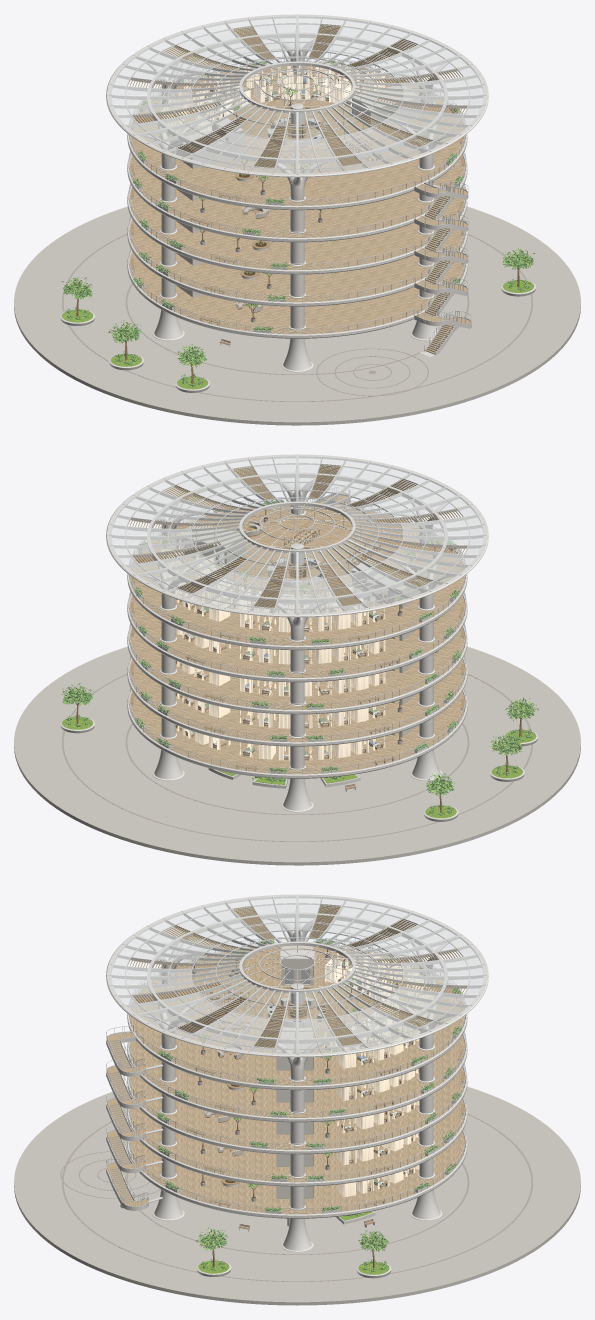
The model's file is q04c-shared-floor-residence.glb.
3 renders of one model, top to bottom at view 1: azimuth 30°, elevation 25°; view 2: azimuth 150°, elevation 25°; view 3: azimuth 270°, elevation 25°, orthographic.
Visible parts, largest first — view 1: PLAZA_GROUND, ROOF_PANES, ROOF_FRAME, DISC_5, DISC_4, DISC_2, DISC_1, DISC_3, STAIR, PLAZA, RAILING_5, RAILING_4 (+11 smaller); view 2: PLAZA_GROUND, ROOF_PANES, ROOF_FRAME, DISC_5, DISC_2, DISC_4, DISC_3, DISC_1, PLAZA, RAILING_5, RAILING_4, RAILING_1 (+15 smaller); view 3: PLAZA_GROUND, ROOF_PANES, ROOF_FRAME, DISC_5, DISC_4, DISC_3, DISC_1, DISC_2, STAIR, RAILING_5, RAILING_3, RAILING_4 (+16 smaller).
Boxes of the visible parts, <box> form: PLAZA_GROUND: <box>14,206,580,425</box>; ROOF_PANES: <box>111,16,483,173</box>; ROOF_FRAME: <box>106,14,488,177</box>; DISC_5: <box>127,64,467,210</box>; DISC_4: <box>127,153,467,242</box>; DISC_2: <box>127,217,467,306</box>; DISC_1: <box>127,249,467,338</box>; DISC_3: <box>127,185,467,274</box>; STAIR: <box>414,177,471,357</box>; PLAZA: <box>61,248,534,383</box>; RAILING_5: <box>128,57,466,205</box>; RAILING_4: <box>128,151,466,237</box>; PLAZA_GROUND: <box>14,646,580,865</box>; ROOF_PANES: <box>111,456,483,613</box>; ROOF_FRAME: <box>106,454,488,617</box>; DISC_5: <box>127,504,467,650</box>; DISC_2: <box>127,657,467,746</box>; DISC_4: <box>127,593,467,682</box>; DISC_3: <box>127,625,467,714</box>; DISC_1: <box>127,689,467,778</box>; PLAZA: <box>61,683,538,812</box>; RAILING_5: <box>128,497,466,645</box>; RAILING_4: <box>128,591,466,677</box>; RAILING_1: <box>128,687,466,774</box>; PLAZA_GROUND: <box>14,1086,580,1305</box>; ROOF_PANES: <box>111,896,483,1053</box>; ROOF_FRAME: <box>106,894,488,1057</box>; DISC_5: <box>127,945,467,1090</box>; DISC_4: <box>127,1033,467,1122</box>; DISC_3: <box>127,1066,467,1154</box>; DISC_1: <box>127,1130,467,1218</box>; DISC_2: <box>127,1098,467,1186</box>; STAIR: <box>106,1025,163,1210</box>; RAILING_5: <box>128,937,466,1085</box>; RAILING_3: <box>128,1063,466,1149</box>; RAILING_4: <box>128,1031,466,1117</box>.
Bounding box in the file's own units: 80 × 34.78 × 80.
Materials: 47 (2 with a texture image).
